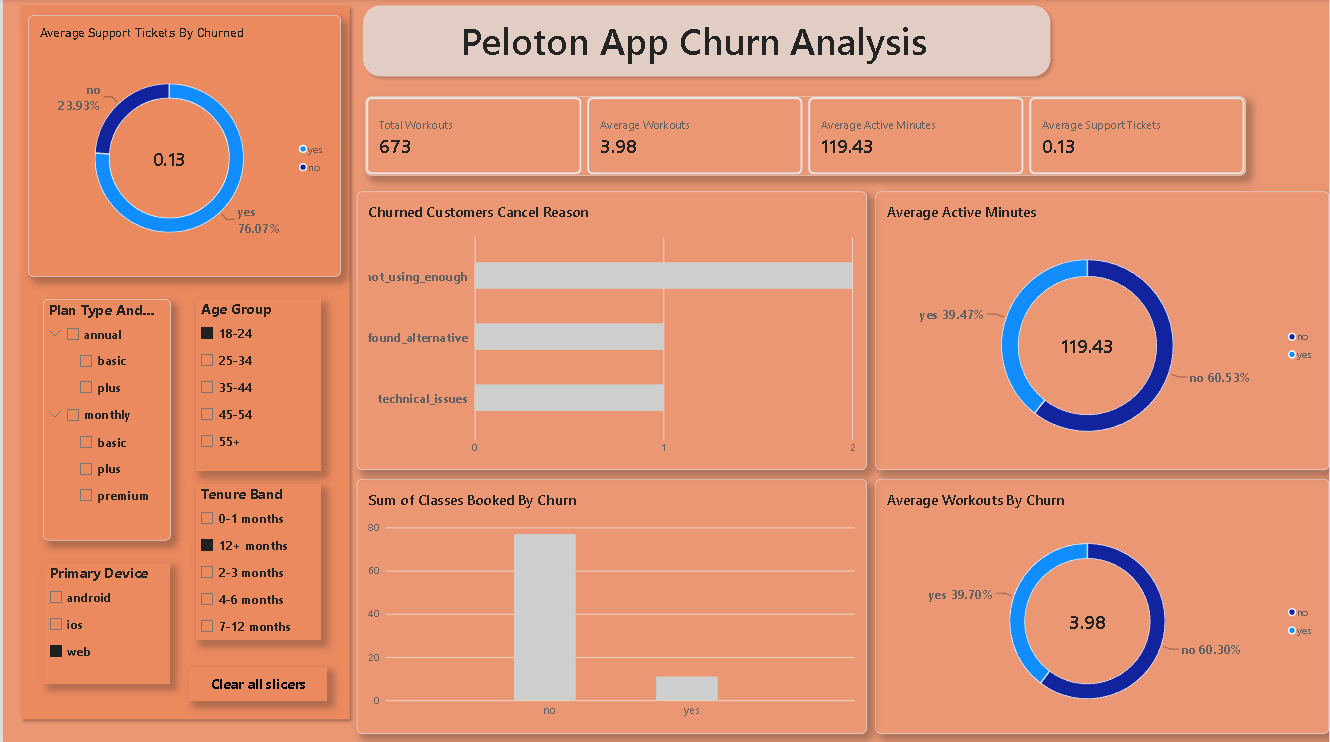

This screenshot's page, from the dashboard's own definition file:
{"tool":"powerbi","page":{"name":"Page 2","canvas":[1920,1080],"ordinal":1},"visuals":[{"type":"shape","box":[16.3,0,494,1051.4],"z":0},{"type":"shape","box":[512.1,0,1013.4,121.2],"z":1000,"group":"g1"},{"type":"cardVisual","fields":{"Data":["usage.Total Workouts","usage.Average Workouts","usage.Average Active Minutes","usage.Average Support Tickets"]},"box":[524.8,141.2,1274,114],"z":1000},{"type":"donutChart","title":"Average Workouts By Churn","fields":{"Category":["subscription.churned"],"Y":["usage.Average Workouts"]},"box":[1263.1,694.9,656.9,369.2],"z":2000},{"type":"donutChart","title":"Average Active Minutes","fields":{"Category":["subscription.churned"],"Y":["usage.Average Active Minutes"]},"box":[1263.1,278.7,656.9,403.6],"z":3000},{"type":"donutChart","title":"Average Support Tickets By Churned","fields":{"Category":["subscription.churned"],"Y":["usage.Average Support Tickets"]},"box":[36.2,23.5,452.4,378.2],"z":4000},{"type":"clusteredColumnChart","title":"Sum of Classes Booked By Churn","fields":{"Category":["subscription.churned"],"Y":["Sum(usage.classes_booked)"]},"box":[512.1,694.9,738.3,369.2],"z":5000},{"type":"clusteredBarChart","title":"Churned Customers Cancel Reason","fields":{"Category":["subscription.cancel_reason"],"Y":["subscription.Churned Customers"]},"box":[512.1,278.7,738.3,403.6],"z":6000},{"type":"group","id":"g1","title":"Group 1","box":[512.1,0,1013.4,173.7],"z":7000},{"type":"textbox","box":[662.3,23.5,796.3,150.2],"z":8000,"group":"g1"},{"type":"slicer","title":"Plan Type","fields":{"Values":["subscription.plan_type","subscription.plan_tier"]},"box":[57.9,434.3,184.6,349.3],"z":8000},{"type":"slicer","title":"Age Group","fields":{"Values":["subscription.age_group"]},"box":[278.7,434.3,182.8,249.7],"z":9000},{"type":"slicer","fields":{"Values":["subscription.Tenure Band"]},"box":[278.7,702.1,182.8,226.2],"z":10000},{"type":"slicer","title":"Primary Device","fields":{"Values":["subscription.primary_device"]},"box":[59.7,816.2,182.8,175.5],"z":11000},{"type":"actionButton","box":[269.6,966.4,200,50],"z":12000}]}

Visuals, with their boxes in screenshot pixels (x1, y1, x2, y2), scaled from the page's 1920x1080 canvas onto the 1330x742 screenshot:
shape: crop(11, 0, 353, 722)
shape: crop(355, 0, 1057, 83)
cardVisual - usage.Total Workouts x usage.Average Workouts: crop(364, 97, 1246, 175)
"Average Workouts By Churn" donutChart: crop(875, 477, 1329, 731)
"Average Active Minutes" donutChart: crop(875, 191, 1329, 469)
"Average Support Tickets By Churned" donutChart: crop(25, 16, 338, 276)
"Sum of Classes Booked By Churn" clusteredColumnChart: crop(355, 477, 866, 731)
"Churned Customers Cancel Reason" clusteredBarChart: crop(355, 191, 866, 469)
"Group 1" group: crop(355, 0, 1057, 119)
textbox: crop(459, 16, 1010, 119)
"Plan Type" slicer: crop(40, 298, 168, 538)
"Age Group" slicer: crop(193, 298, 320, 470)
slicer - subscription.Tenure Band: crop(193, 482, 320, 638)
"Primary Device" slicer: crop(41, 561, 168, 681)
actionButton: crop(187, 664, 325, 698)
